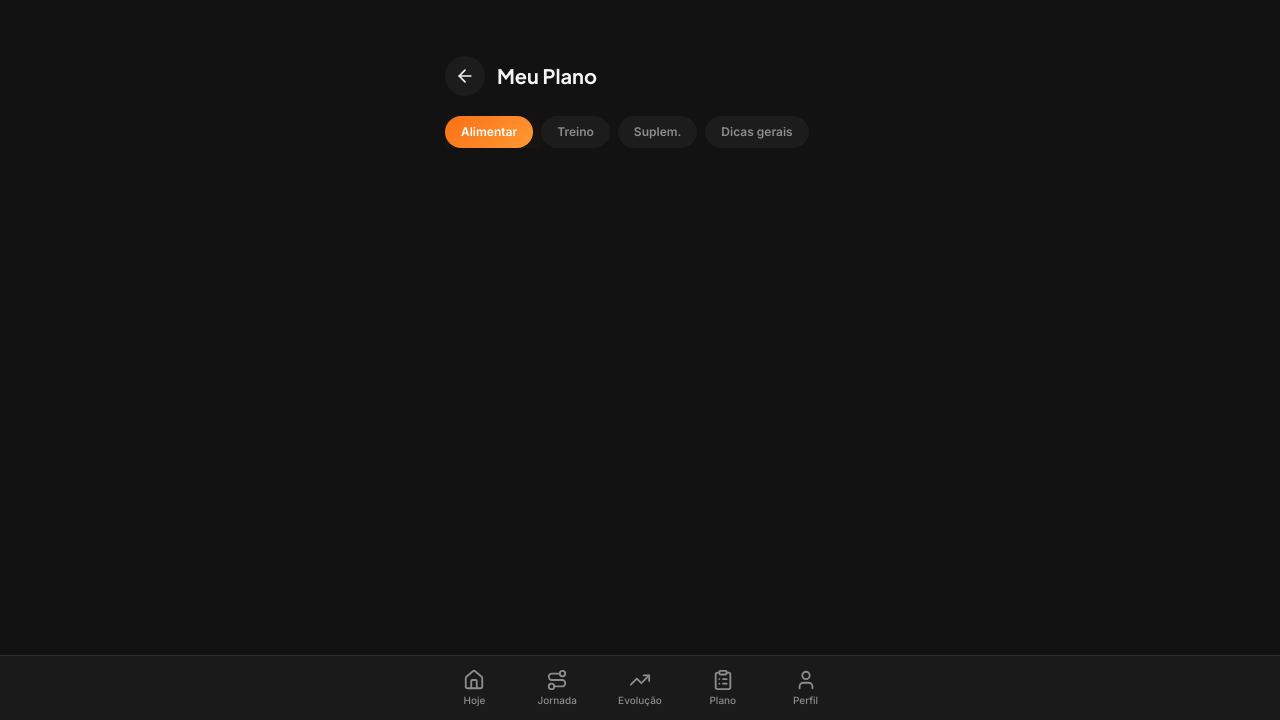
Test: Meu Plano / aba de dicas (WP-APP-4 item 4) › dentro, o rótulo diz que não é prescrição do profissional dela
Click the button "Dicas gerais" at (757, 132), box 705,116 -> 809,148
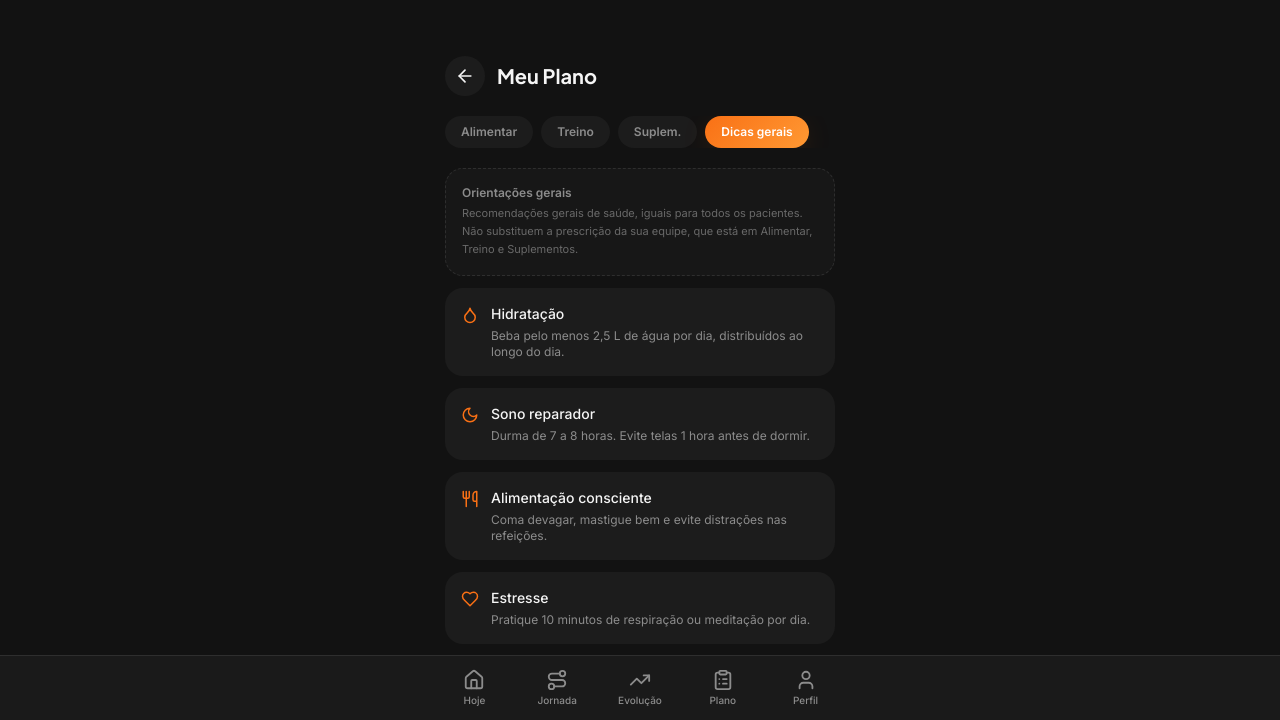
Now the text "Orientações gerais" is shown, box 462,185 -> 572,200
Now the text "não substituem a prescrição da sua equipe" is shown, box 462,206 -> 812,256
